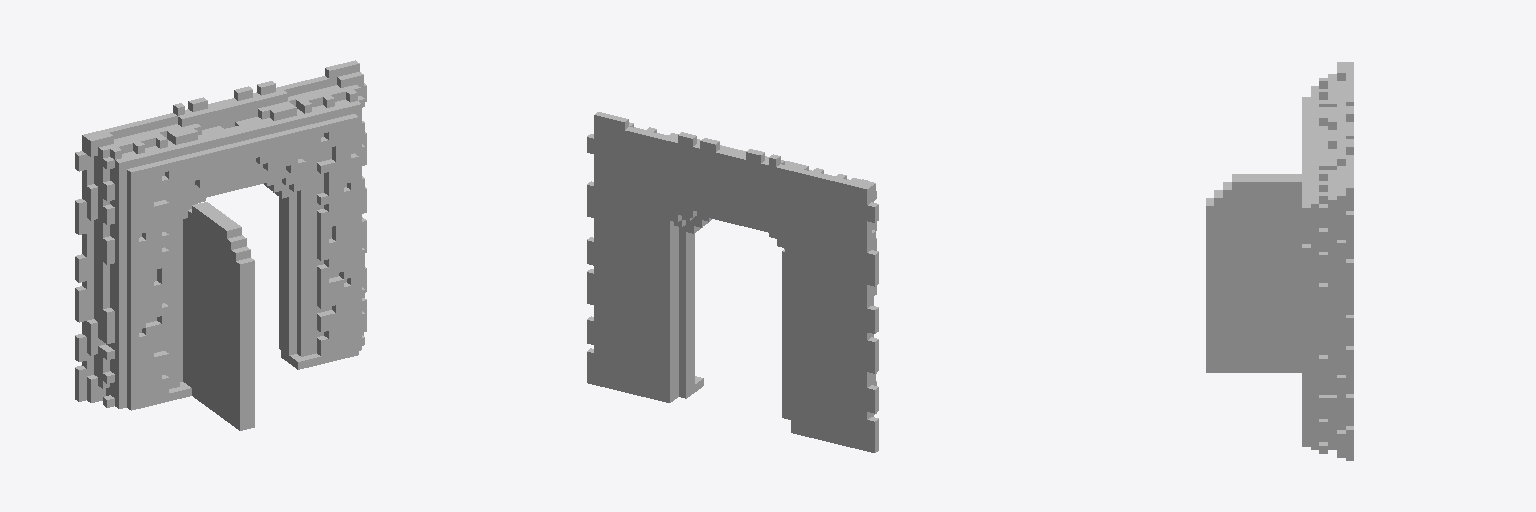
Rendered from Door 5.obj.
3 renders of one model, left to right at view 1: azimuth 30°, elevation 25°; view 2: azimuth 150°, elevation 25°; view 3: azimuth 270°, elevation 25°, orthographic.
Bounding box in the file's own units: 38 × 34 × 17.